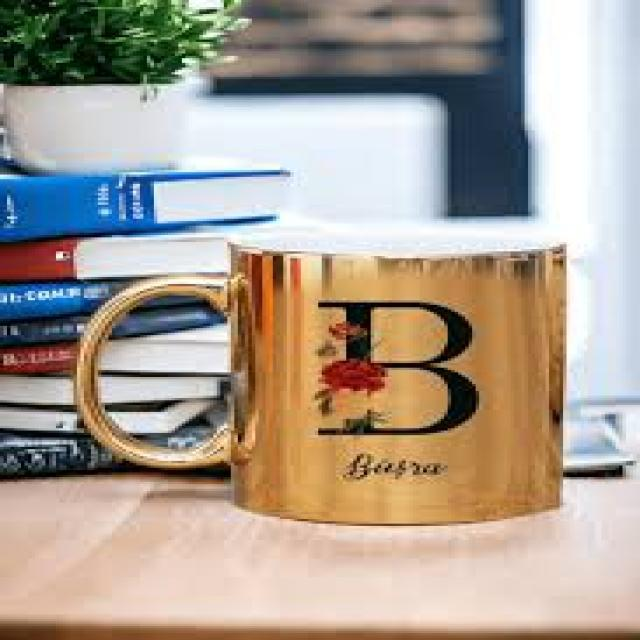taza: (74, 224, 568, 526)
